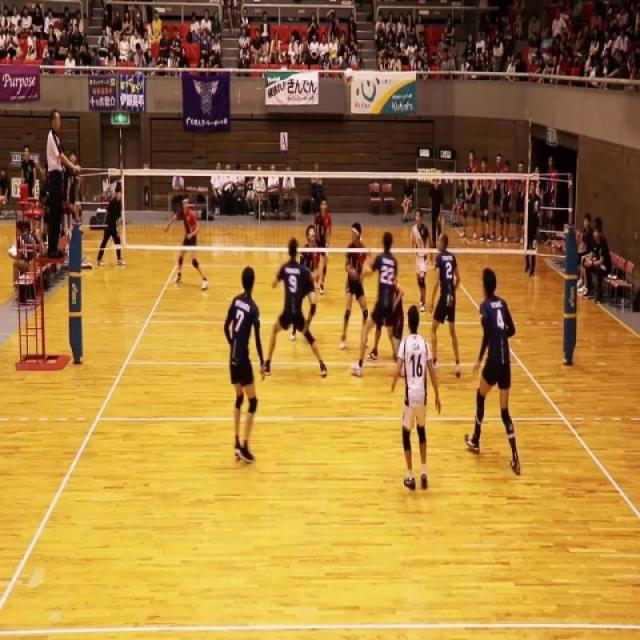volleyball: (344, 68, 354, 86)
